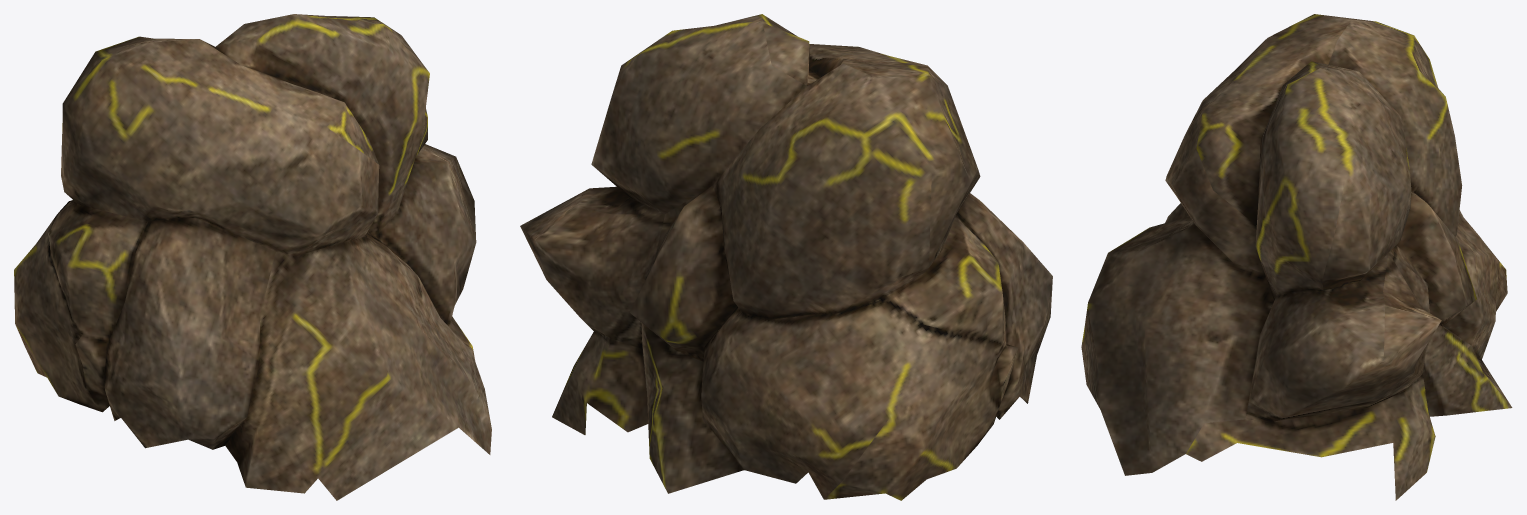
Rendered from mine_metal_india_small.glb.
3 views of the same model, side by side, from view 1: azimuth 30°, elevation 25°; view 2: azimuth 150°, elevation 25°; view 3: azimuth 270°, elevation 25° (orthographic). The views are drawn at different scales.
Visible parts, largest first — view 1: mine_metal_india_small_part0; view 2: mine_metal_india_small_part0; view 3: mine_metal_india_small_part0.
Part boxes in pixels (x1,y1,x2,y2): mine_metal_india_small_part0: (14,14,491,500); mine_metal_india_small_part0: (520,14,1052,500); mine_metal_india_small_part0: (1081,14,1512,500).
Bounding box in the file's own units: 2.15 × 1.89 × 2.02.
1 material, 1 textured.
